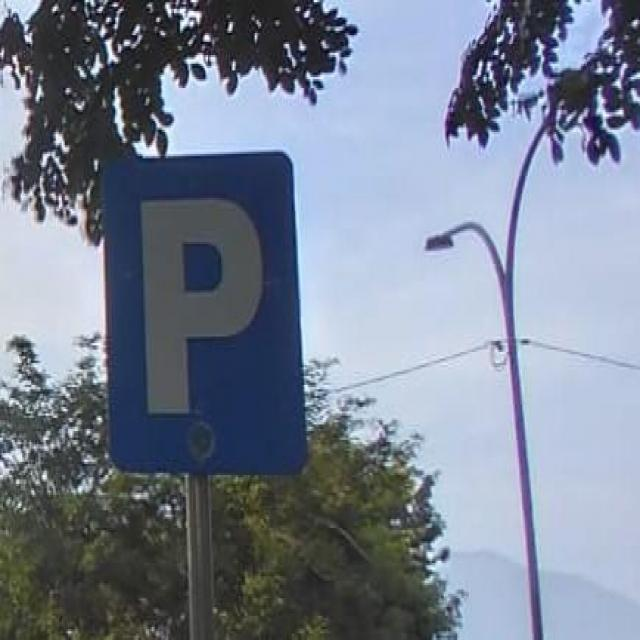traffic sign: (100, 152, 306, 473)
